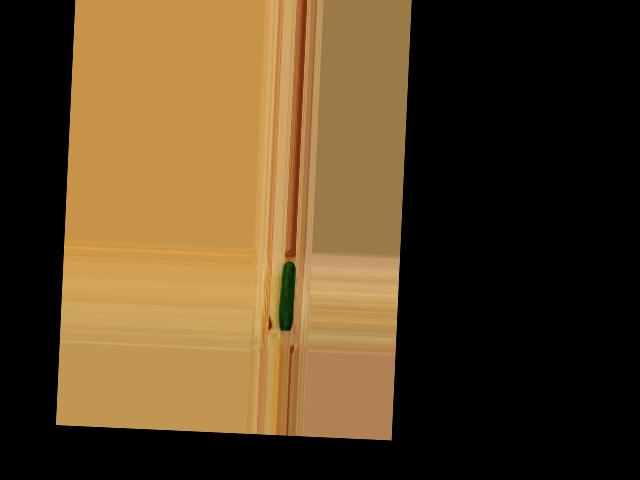cucumber: (278, 260, 295, 330)
